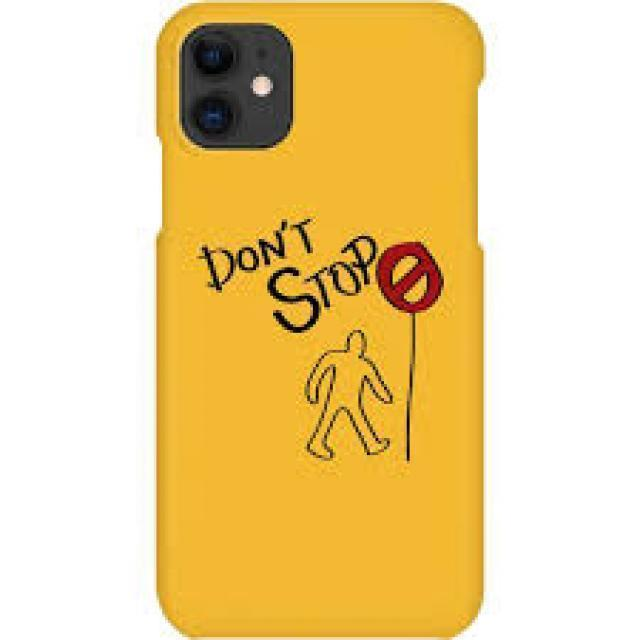Mobile: (158, 1, 488, 634)
